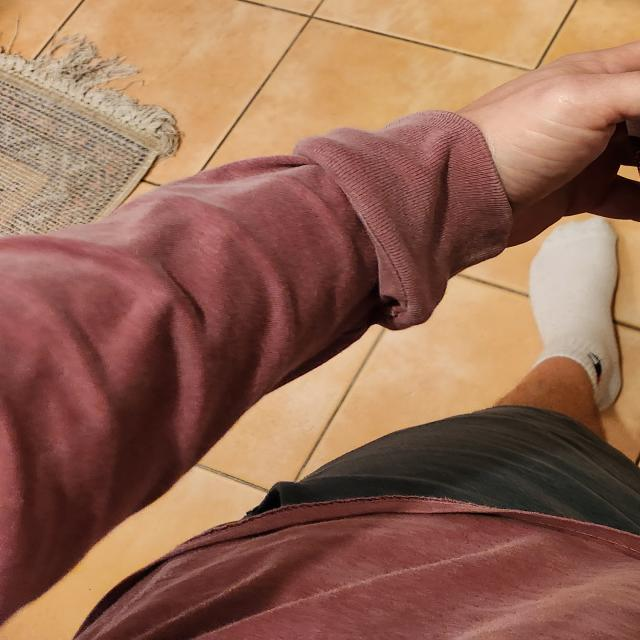tomato puree: (627, 66, 640, 312)
